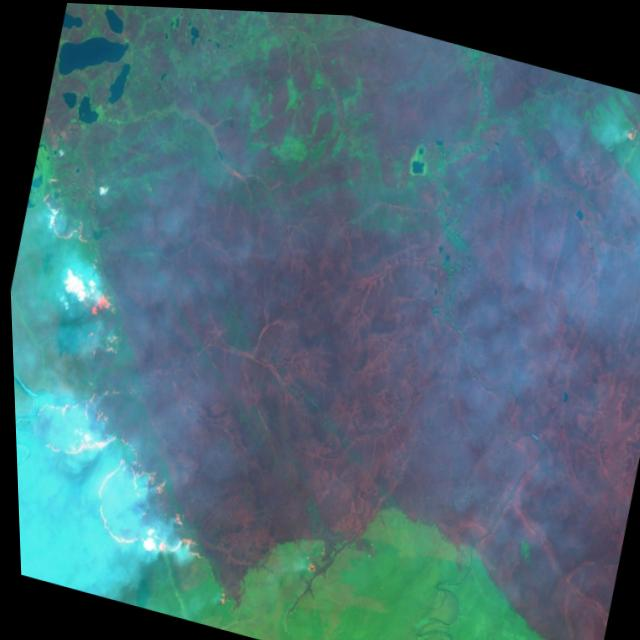fire: (5, 162, 277, 578)
